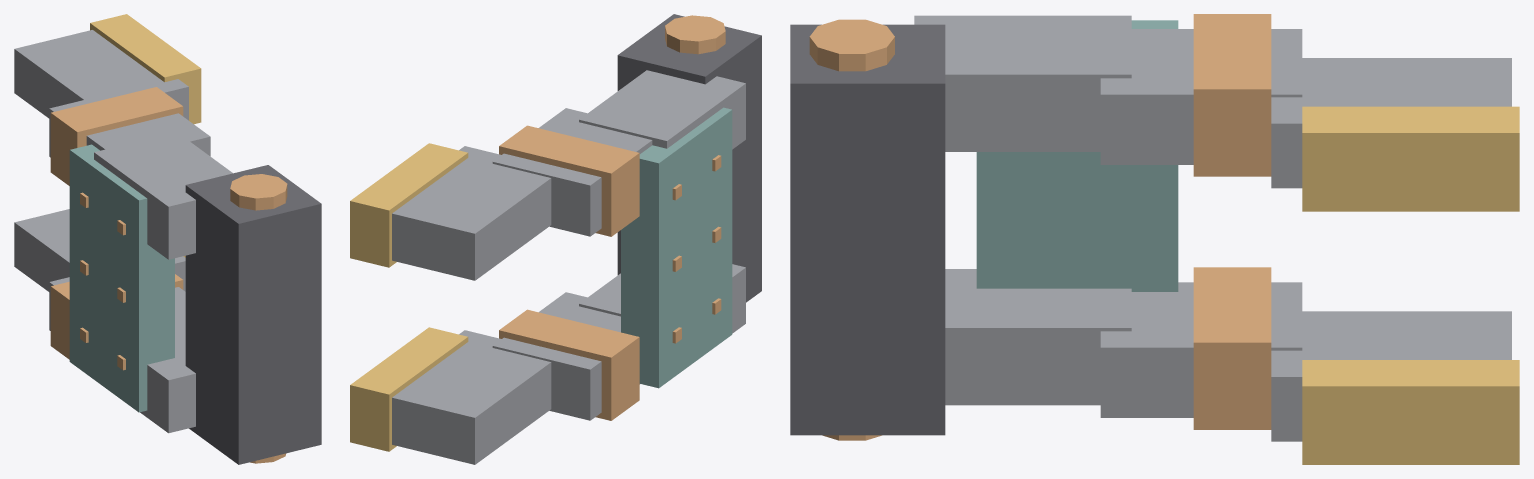
The model's file is grabber_claw.glb.
The picture shows the model from 3 angles, left to right: view 1: azimuth 30°, elevation 25°; view 2: azimuth 150°, elevation 25°; view 3: azimuth 270°, elevation 25°; orthographic projection. The views are drawn at different scales.
Parts seen in each view (by area): view 1: GrabberClaw; view 2: GrabberClaw; view 3: GrabberClaw.
Part boxes in pixels (x1,y1,x2,y2): GrabberClaw: (14, 14, 321, 464); GrabberClaw: (350, 14, 761, 464); GrabberClaw: (790, 14, 1519, 464).
Bounding box in the file's own units: 0.384 × 0.55 × 0.94.
